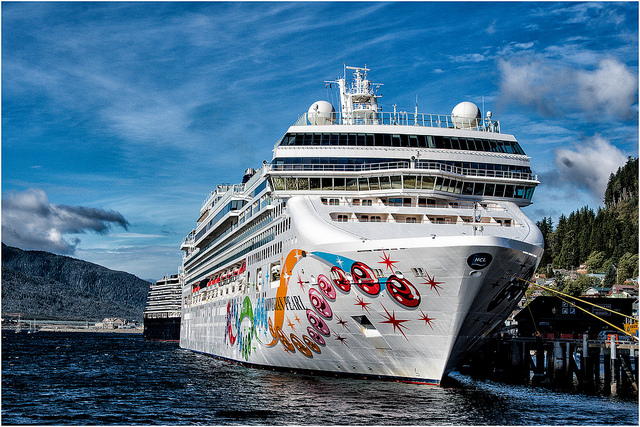cruise_ship: (183, 73, 541, 388)
